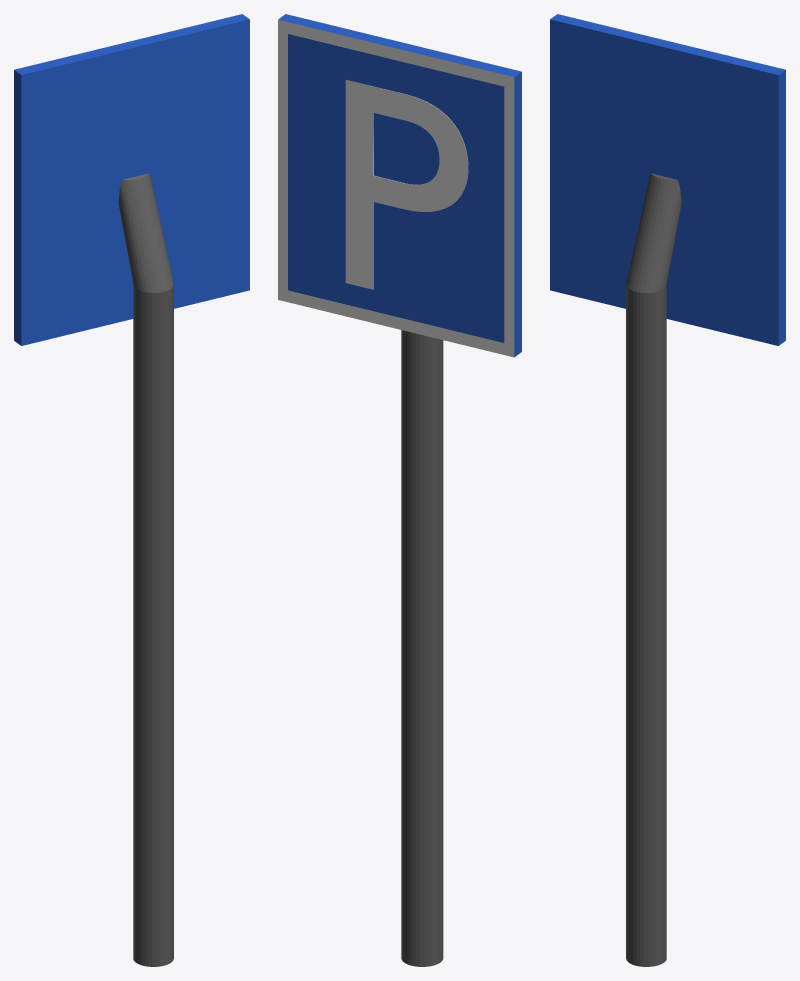
Rendered from Park_Sign.fbx.
3 views of the same model, side by side, from view 1: azimuth 30°, elevation 25°; view 2: azimuth 150°, elevation 25°; view 3: azimuth 330°, elevation 25° (orthographic). The views are drawn at different scales.
Visible parts, largest first — view 1: Sign, Sting; view 2: Sign, Sting, P; view 3: Sign, Sting.
Part boxes in pixels (x1,y1,x2,y2): Sign: (14,14,249,345); Sting: (118,173,173,966); Sign: (278,14,521,357); Sting: (401,330,443,966); P: (345,79,468,289); Sign: (550,14,785,345); Sting: (626,173,681,966).
Bounding box in the file's own units: 46.19 × 174 × 12.48.
